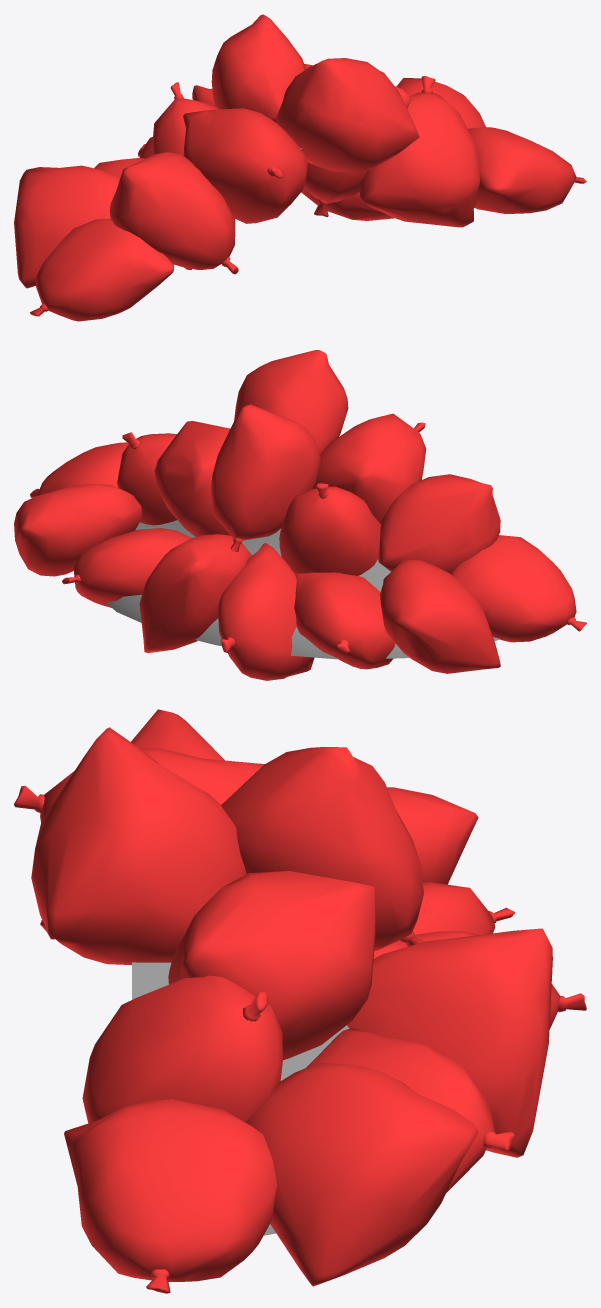
File: garbage_pile_03.fbx
The picture shows the model from 3 angles, top to bottom: view 1: azimuth 30°, elevation 25°; view 2: azimuth 150°, elevation 25°; view 3: azimuth 270°, elevation 25°; orthographic projection. The views are drawn at different scales.
Parts seen in each view (by area): view 1: Group46826; view 2: Group46826; view 3: Group46826.
Boxes of the visible parts, x1,y1,x2,y2 form: Group46826: (14,14,586,321); Group46826: (14,350,586,680); Group46826: (14,709,586,1293).
Bounding box in the file's own units: 444 × 191 × 236.
